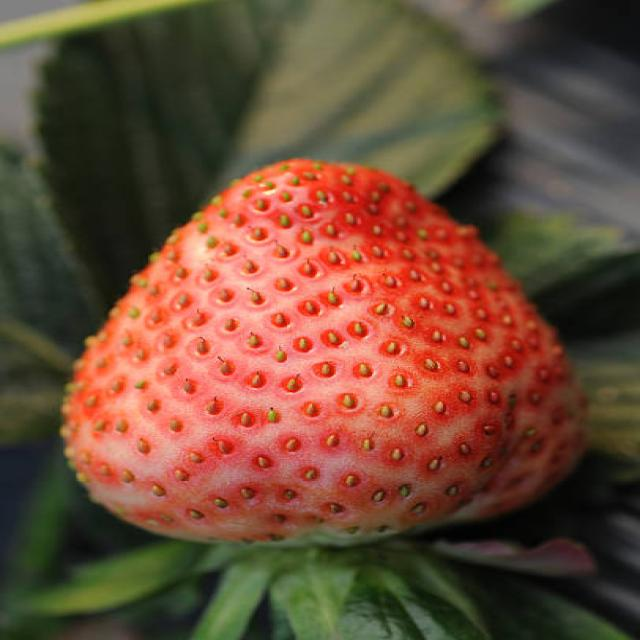Healthy Fruit: (61, 157, 584, 548)
